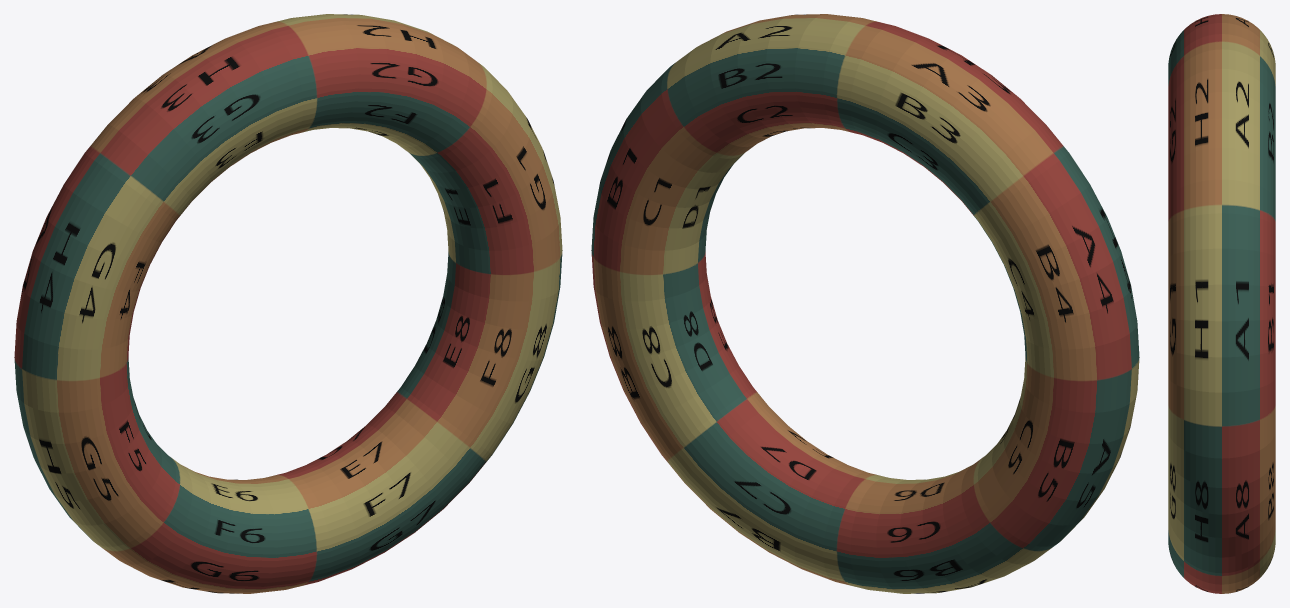
Rendered from texture_torus_R14_r9.glb.
3 views of the same model, side by side, from view 1: azimuth 30°, elevation 25°; view 2: azimuth 150°, elevation 25°; view 3: azimuth 270°, elevation 25° (orthographic). The views are drawn at different scales.
Visible parts, largest first — view 1: world; view 2: world; view 3: world.
Boxes of the visible parts, x1,y1,x2,y2 form: world: [14, 14, 562, 593]; world: [591, 14, 1139, 593]; world: [1168, 14, 1275, 593].
Size of the model in its own units: 23.73 by 23.69 by 4.39.
1 material, 1 textured.
